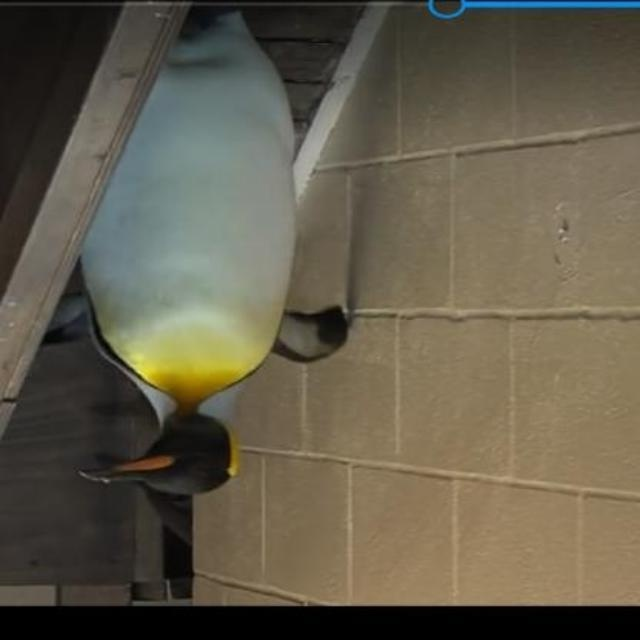penguin: (74, 8, 351, 498)
